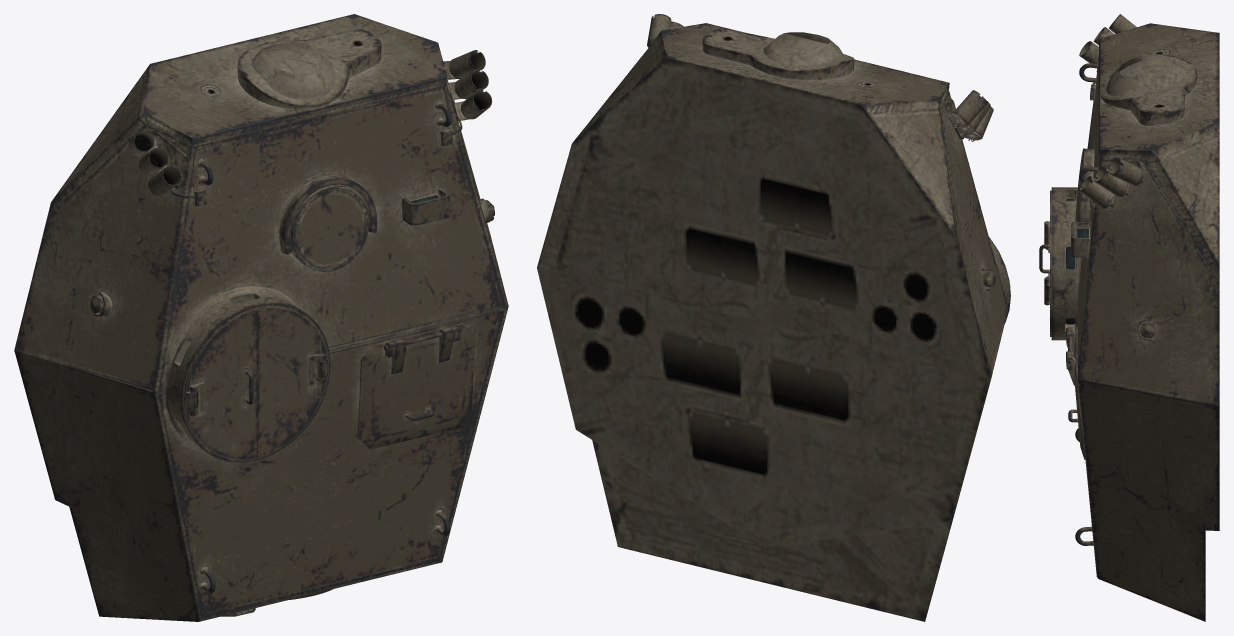
The model's file is Turret_01.glb.
3 renders of one model, left to right at view 1: azimuth 30°, elevation 25°; view 2: azimuth 150°, elevation 25°; view 3: azimuth 270°, elevation 25°, orthographic. The views are drawn at different scales.
Visible parts, largest first — view 1: set_0_group_0; view 2: set_0_group_0; view 3: set_0_group_0.
Boxes of the visible parts, box(x1,y1,x2,y2) form: set_0_group_0: box(14, 14, 508, 621); set_0_group_0: box(537, 14, 1010, 621); set_0_group_0: box(1039, 14, 1219, 621).
Bounding box in the file's own units: 2.64 × 2.91 × 0.9713.
Materials: 1 (1 with a texture image).
